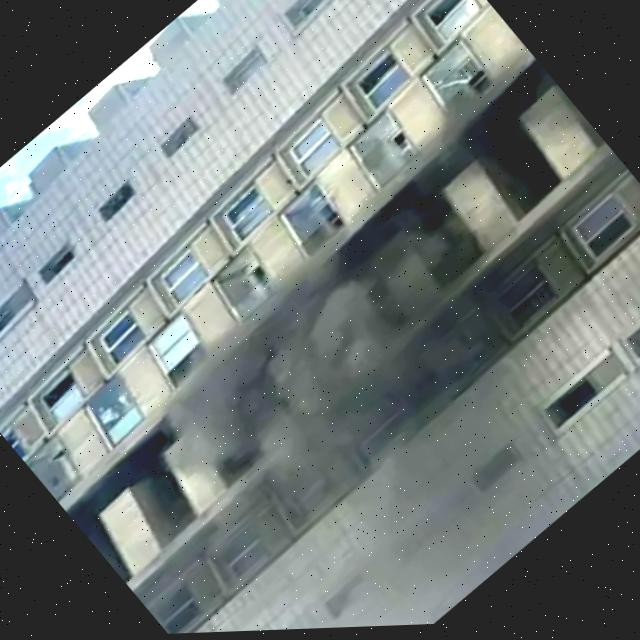Smoke: (121, 175, 617, 636)
